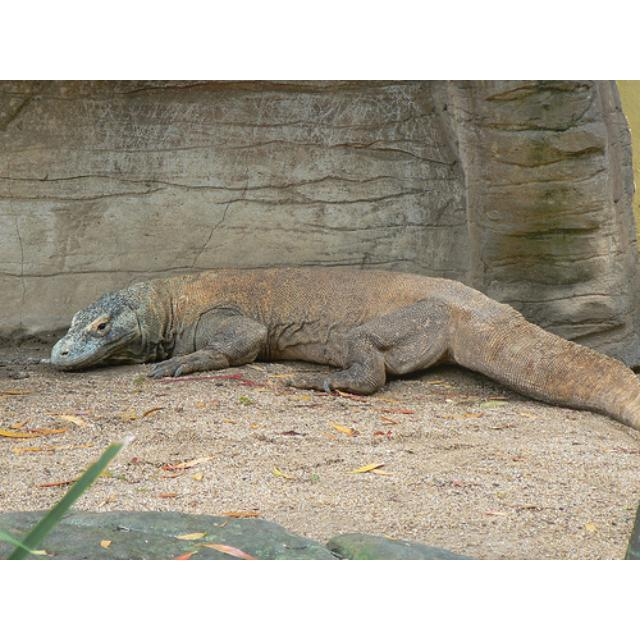KomodoDragon: (45, 267, 637, 427)
